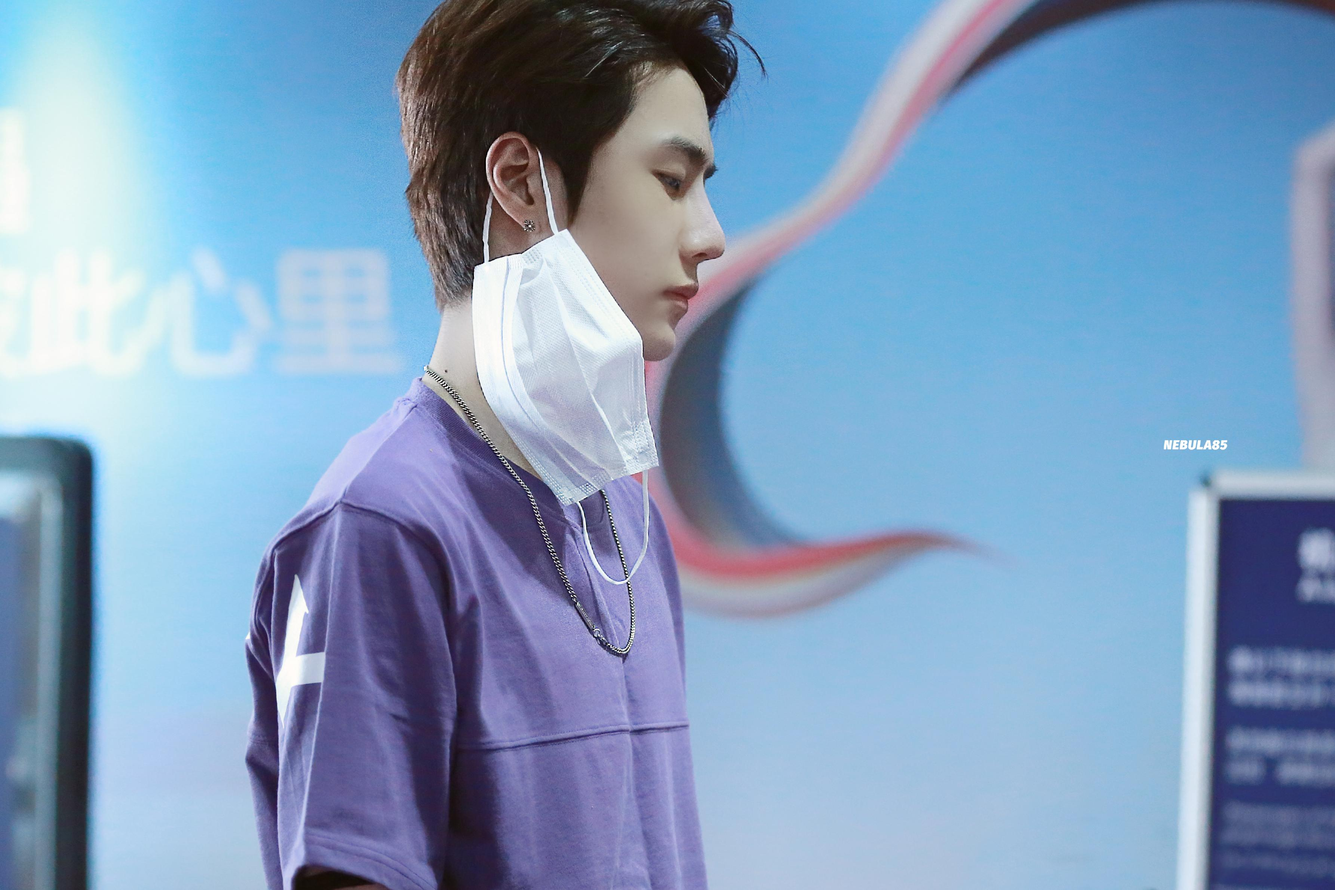WRONG: (568, 105, 726, 369)
